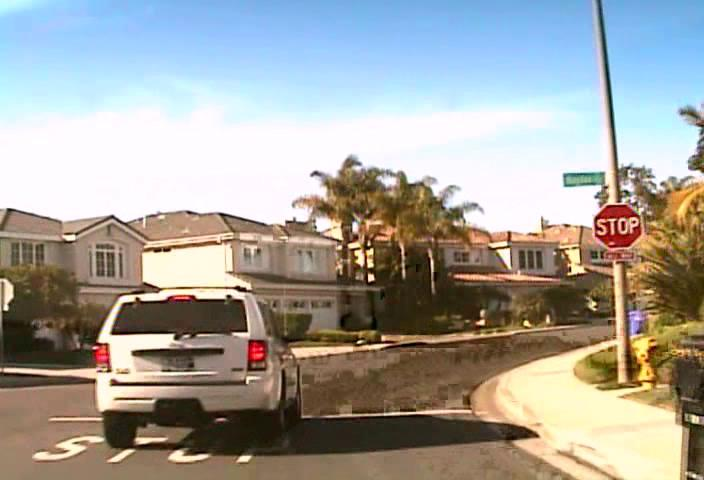stop: (591, 202, 644, 250)
